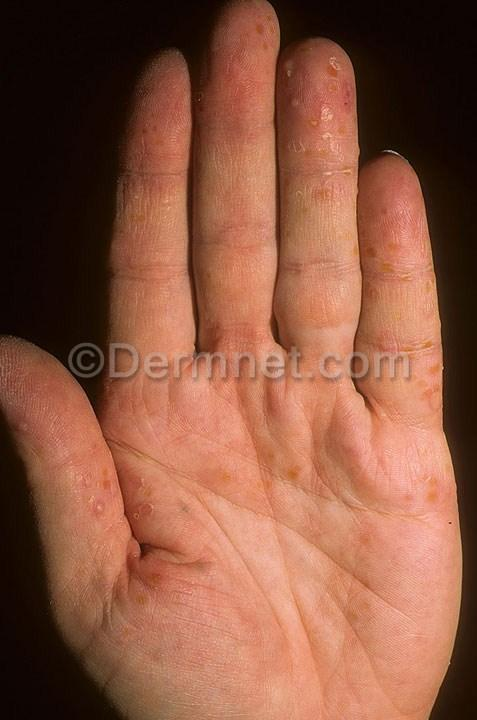Eczema: (101, 84, 223, 231), (281, 59, 375, 190)
